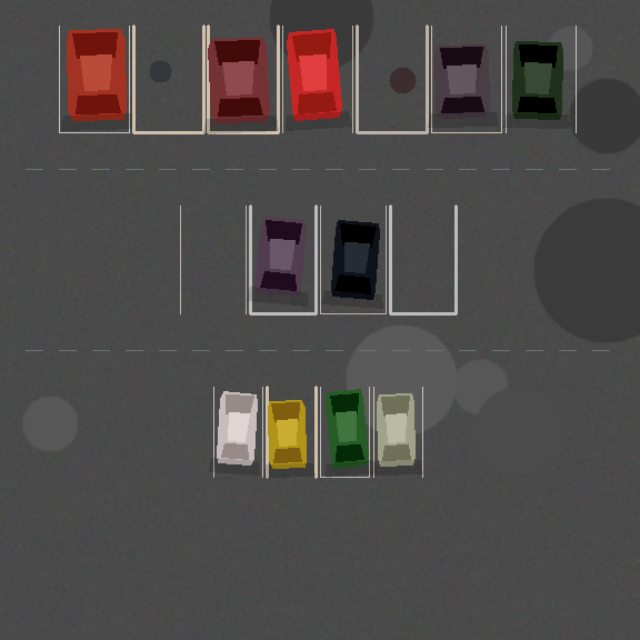space-empty: (133, 26, 203, 132), (357, 26, 427, 132), (180, 206, 246, 313), (390, 206, 456, 313)
space-occupied: (59, 26, 129, 132), (208, 26, 278, 132), (282, 26, 352, 132), (431, 26, 501, 132), (506, 26, 576, 132), (250, 206, 316, 313), (320, 206, 386, 313), (213, 387, 262, 477), (267, 387, 316, 477), (320, 387, 369, 477), (373, 387, 422, 477)
